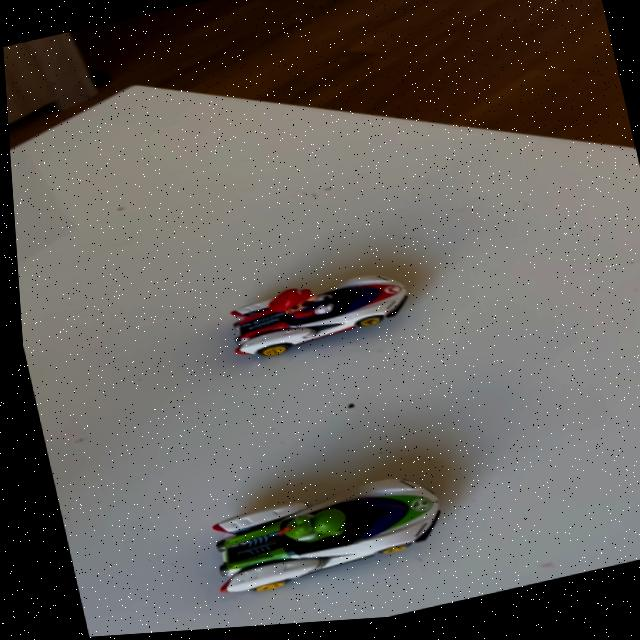mario: (196, 243, 435, 379)
yoshi: (179, 449, 465, 614)
